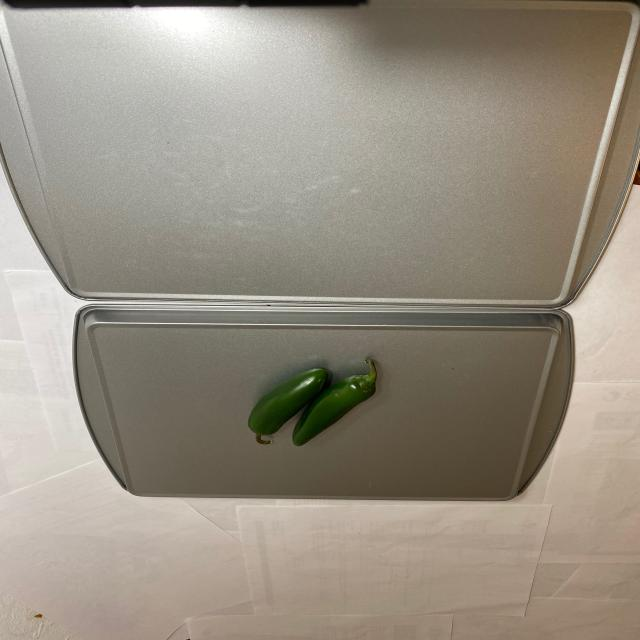chilli: (246, 356, 386, 447)
